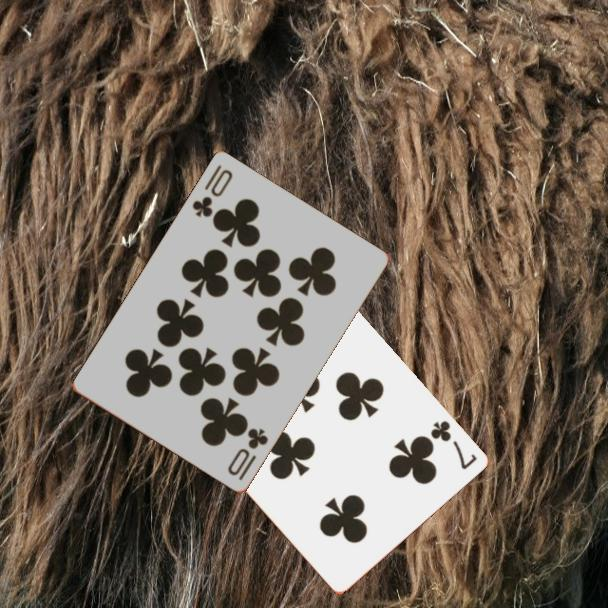c07: (427, 417, 479, 472)
c10: (224, 425, 272, 484), (189, 162, 236, 221)
